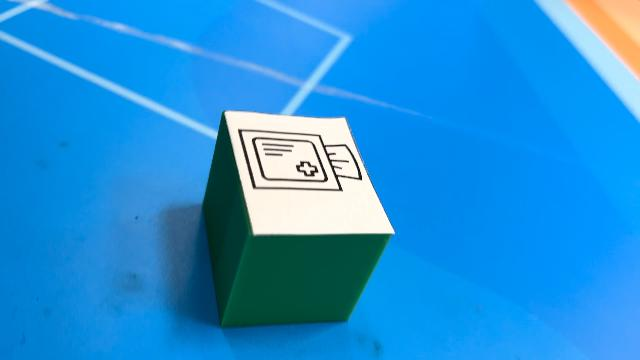napkin: (202, 110, 394, 330)
